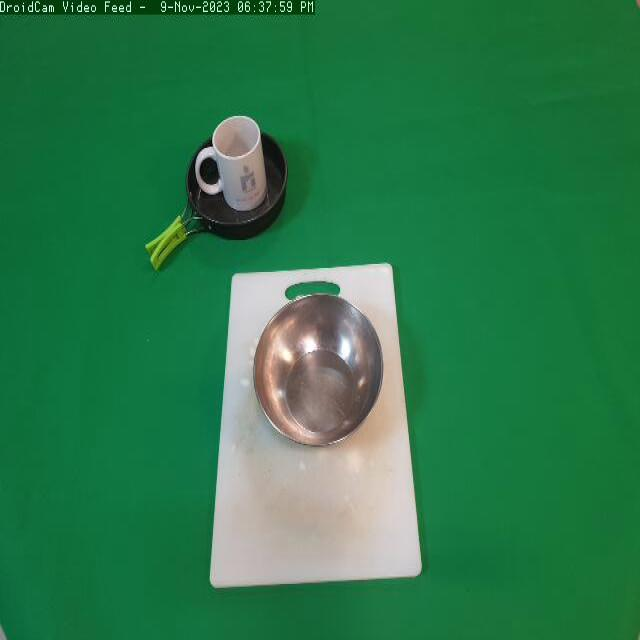bowl: (253, 288, 387, 456)
cup: (190, 110, 266, 216)
cutting board: (199, 246, 437, 612)
pan: (143, 109, 294, 272)
